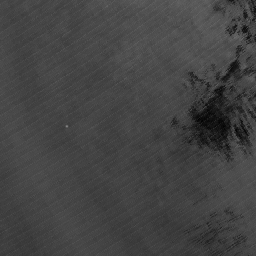Target: (63, 122, 70, 130)
